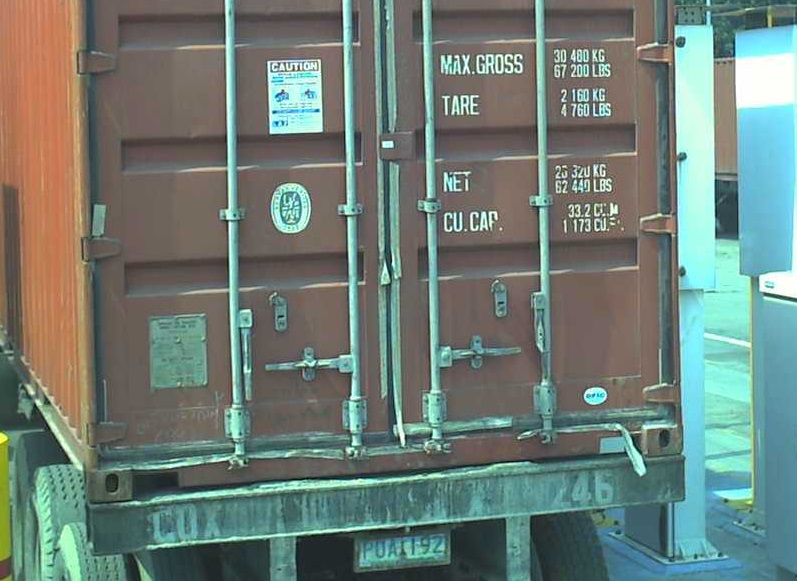container_door: (86, 1, 683, 502)
